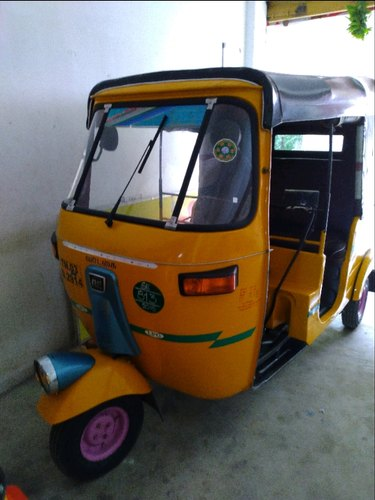auto: (26, 62, 375, 483)
